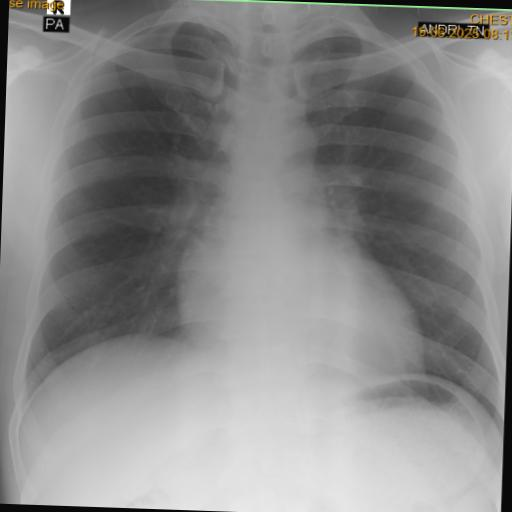kardiomegali: (4, 0, 512, 434)
